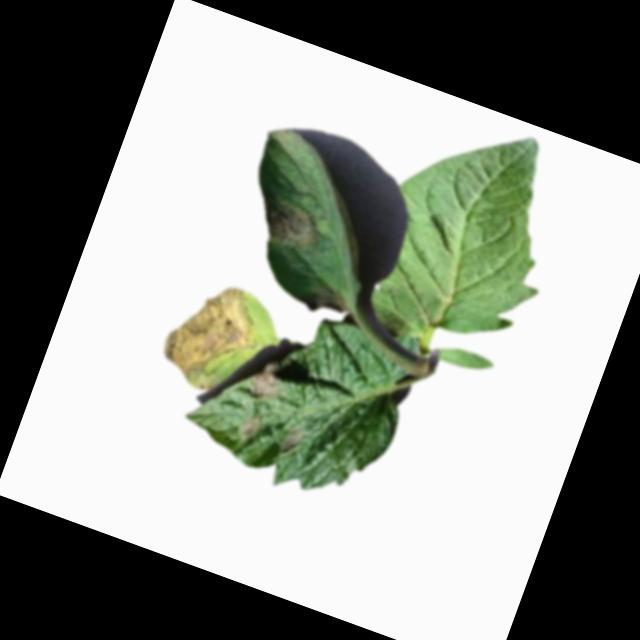Late_blight: (153, 270, 274, 404), (258, 193, 331, 256), (298, 278, 354, 322), (246, 356, 288, 404), (278, 422, 307, 457), (236, 410, 265, 442)
healthy: (347, 101, 586, 384)
